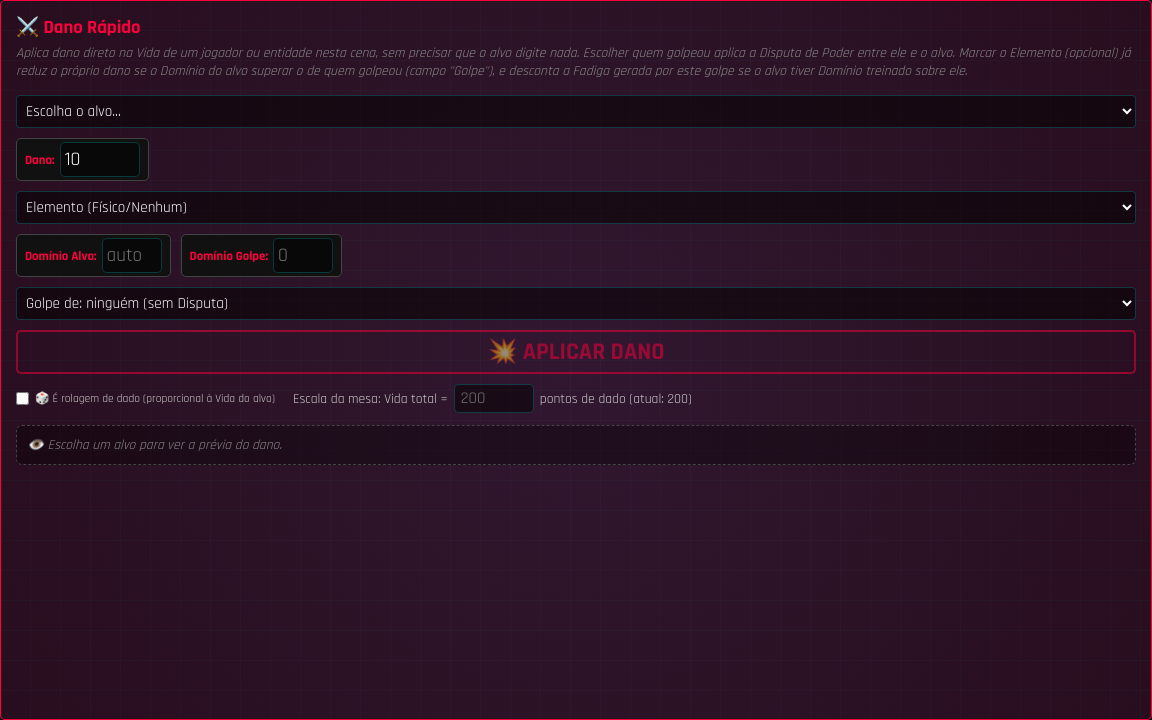
Scenario: PreviaDanoRapido (Dano Rápido do Mestre) › com alvo e dano digitado mostra "👁️ Prévia", o dano final e a Vida antes -> depois
The image size is (1152, 720).
Select "🤖 Goblin" in the 1st dropdown: (576, 112) [16,95,1136,128]
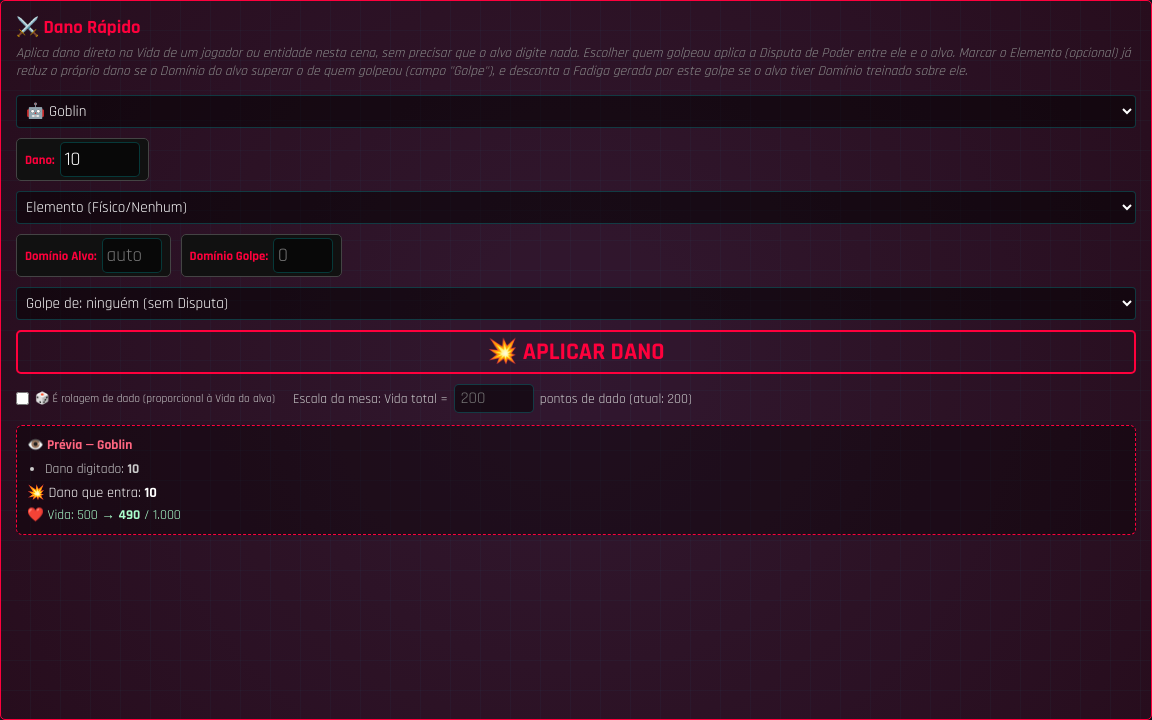
Replace the text in the number field showing "10" with "100": (100, 160) [60,142,140,177]
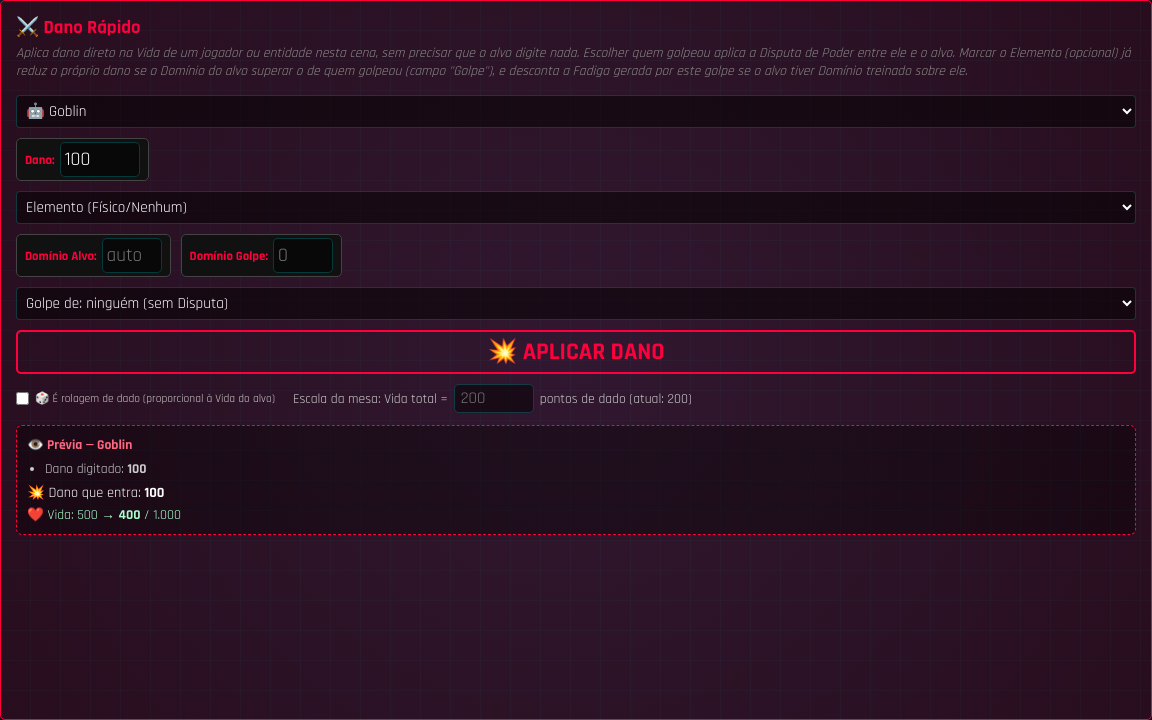
Now the text "👁️ Prévia — Goblin" is shown, box [27,436,132,454]
Now the element with class "dano-previa-final" shows "Dano que entra", box [27,484,144,502]
Now the element with class "dano-previa-final" shows "100", box [144,484,164,502]
